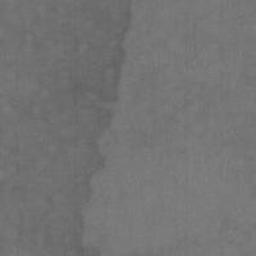Water spot: (0, 0, 131, 256)
